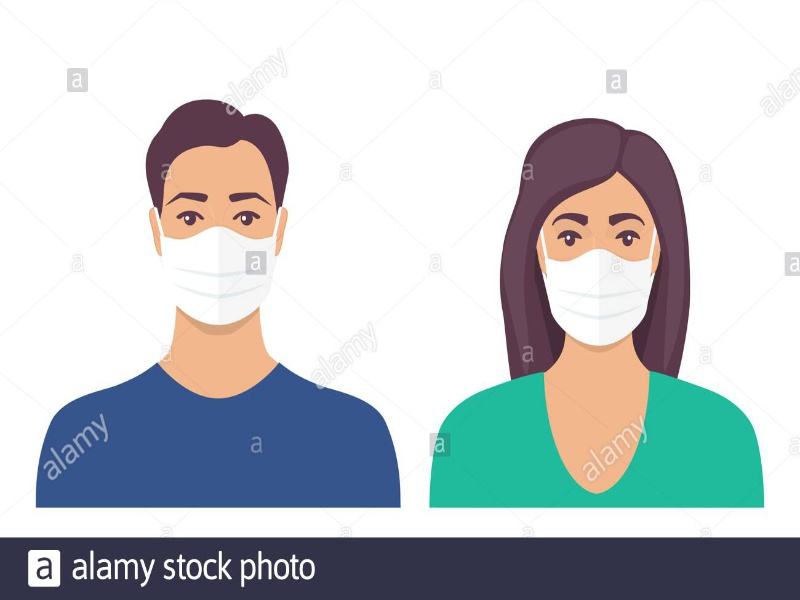ManaoArotava: (127, 111, 312, 342), (520, 153, 669, 363)
